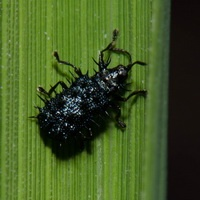insect: (30, 29, 146, 158)
